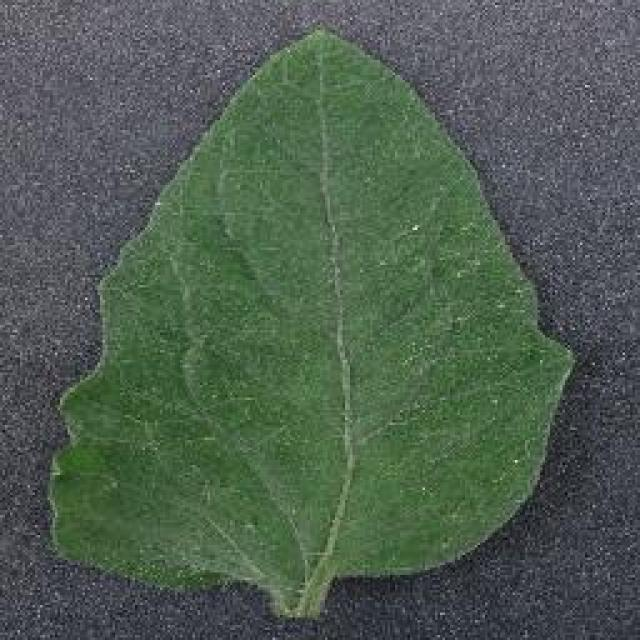healthy: (49, 24, 582, 620)
